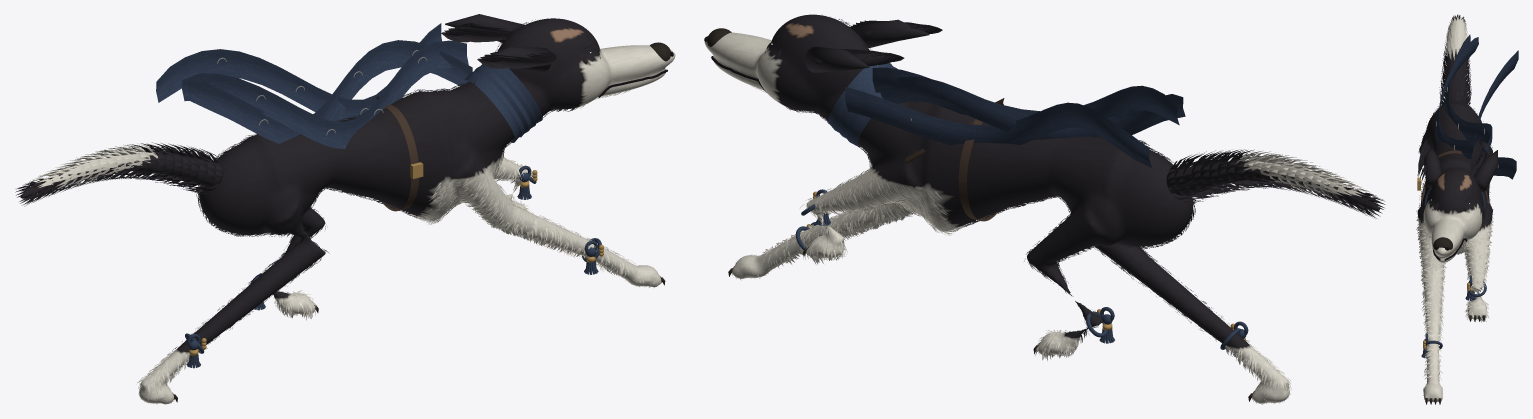
File: 10_Hayate.glb
3 views of the same model, side by side, from view 1: azimuth 30°, elevation 25°; view 2: azimuth 150°, elevation 25°; view 3: azimuth 270°, elevation 25° (orthographic). The views are drawn at different scales.
Visible parts, largest first — view 1: ANATOMY | unified canine skin, FUR | groomed tapered surface clumps, CLOTH | trailing scarf panel 1, FUR | directional tail plume, CLOTH | trailing scarf panel 0, CLOTH | trailing scarf panel 2, ANATOMY | sculpted tail, CLOTH | layered neck scarf.002, FUR | swept sighthound ear.001, FUR | swept sighthound ear, CLOTH | layered neck scarf, TACK | light racing girth (+3 smaller); view 2: ANATOMY | unified canine skin, FUR | groomed tapered surface clumps, CLOTH | trailing scarf panel 2, FUR | directional tail plume, CLOTH | trailing scarf panel 0, CLOTH | trailing scarf panel 1, ANATOMY | sculpted tail, FACE | folded swept ear.001, FACE | folded swept ear, CLOTH | layered neck scarf, TACK | light racing girth, FUR | swept sighthound ear.001 (+1 smaller); view 3: ANATOMY | unified canine skin, FUR | groomed tapered surface clumps, FUR | directional tail plume, CLOTH | trailing scarf panel 1, CLOTH | trailing scarf panel 0, CLOTH | trailing scarf panel 2, FACE | folded swept ear.001, FACE | folded swept ear, FUR | swept sighthound ear.001, FUR | swept sighthound ear, FACE | shaped leather nose.
Boxes of the visible parts, left/top/right/bottom form: ANATOMY | unified canine skin: left=139, top=18, right=675, bottom=404; FUR | groomed tapered surface clumps: left=137, top=19, right=660, bottom=403; CLOTH | trailing scarf panel 1: left=182, top=40, right=468, bottom=149; FUR | directional tail plume: left=15, top=142, right=223, bottom=206; CLOTH | trailing scarf panel 0: left=187, top=40, right=472, bottom=143; CLOTH | trailing scarf panel 2: left=156, top=23, right=441, bottom=121; ANATOMY | sculpted tail: left=20, top=153, right=221, bottom=198; CLOTH | layered neck scarf.002: left=465, top=71, right=528, bottom=142; FUR | swept sighthound ear.001: left=441, top=23, right=513, bottom=42; FUR | swept sighthound ear: left=477, top=51, right=556, bottom=68; CLOTH | layered neck scarf: left=481, top=64, right=542, bottom=130; TACK | light racing girth: left=382, top=104, right=419, bottom=211; ANATOMY | unified canine skin: left=704, top=14, right=1289, bottom=403; FUR | groomed tapered surface clumps: left=732, top=19, right=1291, bottom=404; CLOTH | trailing scarf panel 2: left=845, top=86, right=1151, bottom=167; FUR | directional tail plume: left=1166, top=149, right=1385, bottom=218; CLOTH | trailing scarf panel 0: left=880, top=76, right=1185, bottom=139; CLOTH | trailing scarf panel 1: left=872, top=67, right=1179, bottom=125; ANATOMY | sculpted tail: left=1168, top=161, right=1379, bottom=210; FACE | folded swept ear.001: left=805, top=47, right=869, bottom=72; FACE | folded swept ear: left=850, top=19, right=929, bottom=48; CLOTH | layered neck scarf: left=828, top=64, right=896, bottom=132; TACK | light racing girth: left=958, top=119, right=997, bottom=221; FUR | swept sighthound ear.001: left=812, top=49, right=904, bottom=66; ANATOMY | unified canine skin: left=1417, top=100, right=1492, bottom=401; FUR | groomed tapered surface clumps: left=1416, top=99, right=1493, bottom=401; FUR | directional tail plume: left=1439, top=14, right=1471, bottom=105; CLOTH | trailing scarf panel 1: left=1435, top=37, right=1482, bottom=158; CLOTH | trailing scarf panel 0: left=1445, top=34, right=1492, bottom=175; CLOTH | trailing scarf panel 2: left=1475, top=50, right=1518, bottom=179; FACE | folded swept ear.001: left=1474, top=150, right=1498, bottom=192; FACE | folded swept ear: left=1424, top=146, right=1441, bottom=188; FUR | swept sighthound ear.001: left=1470, top=139, right=1492, bottom=178; FUR | swept sighthound ear: left=1417, top=139, right=1441, bottom=180; FACE | shaped leather nose: left=1433, top=237, right=1452, bottom=249.
Size of the model in its own units: 2.5 by 1.09 by 0.4763.
9 materials, 1 textured.
